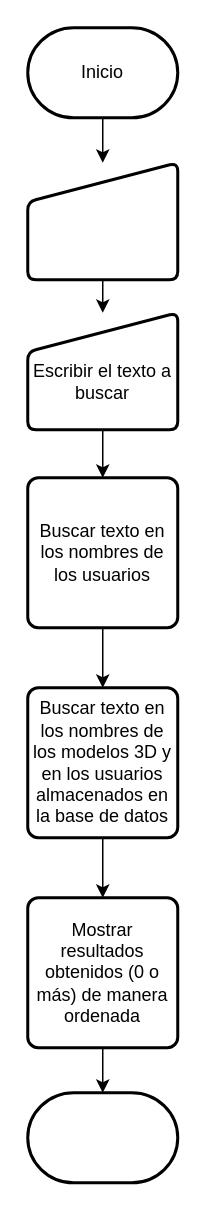
This 204x1209 diagram has some shape labels left out. Each missing label, with the box of its shape:
Fin: (26, 1090, 178, 1184)
Hacer click en la barra de búsqueda: (26, 160, 178, 280)
